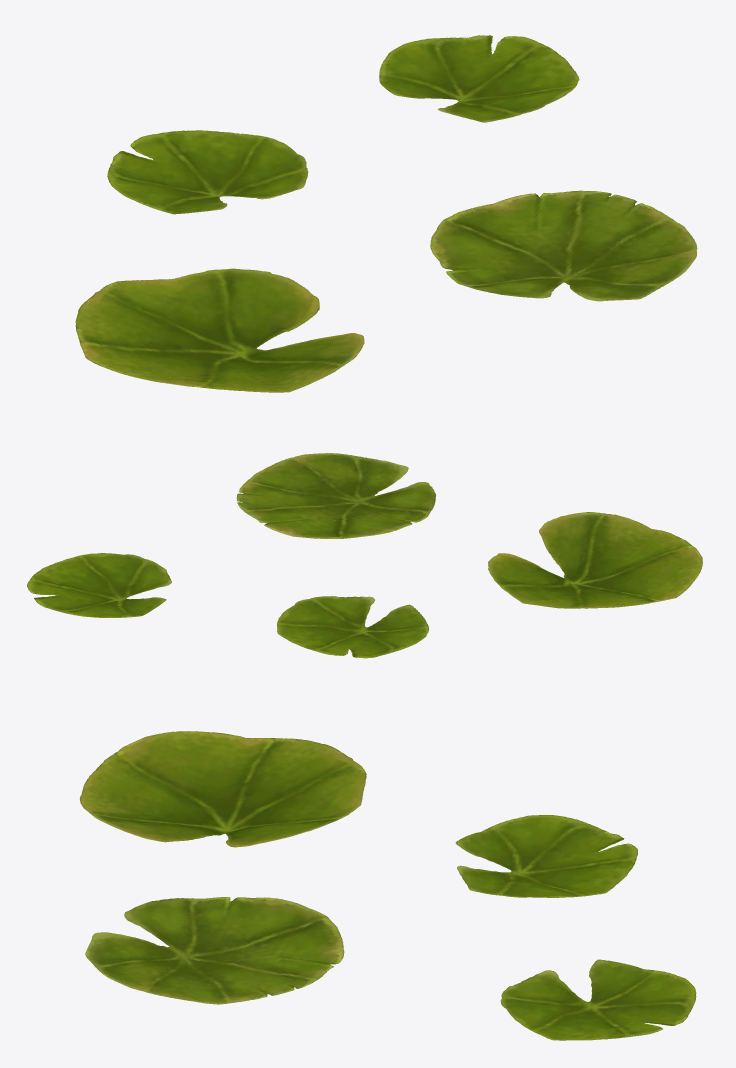
File: SC_SLtree10.FBX
3 views of the same model, one above another, from view 1: azimuth 30°, elevation 25°; view 2: azimuth 150°, elevation 25°; view 3: azimuth 270°, elevation 25° (orthographic). The views are drawn at different scales.
Parts seen in each view (by area): view 1: SC_SLtree10; view 2: SC_SLtree10; view 3: SC_SLtree10.
Part boxes in pixels (x1,y1,x2,y2): SC_SLtree10: [75, 35, 697, 392]; SC_SLtree10: [27, 453, 702, 658]; SC_SLtree10: [80, 731, 696, 1040].
Bounding box in the file's own units: 266 × 12.07 × 223.
